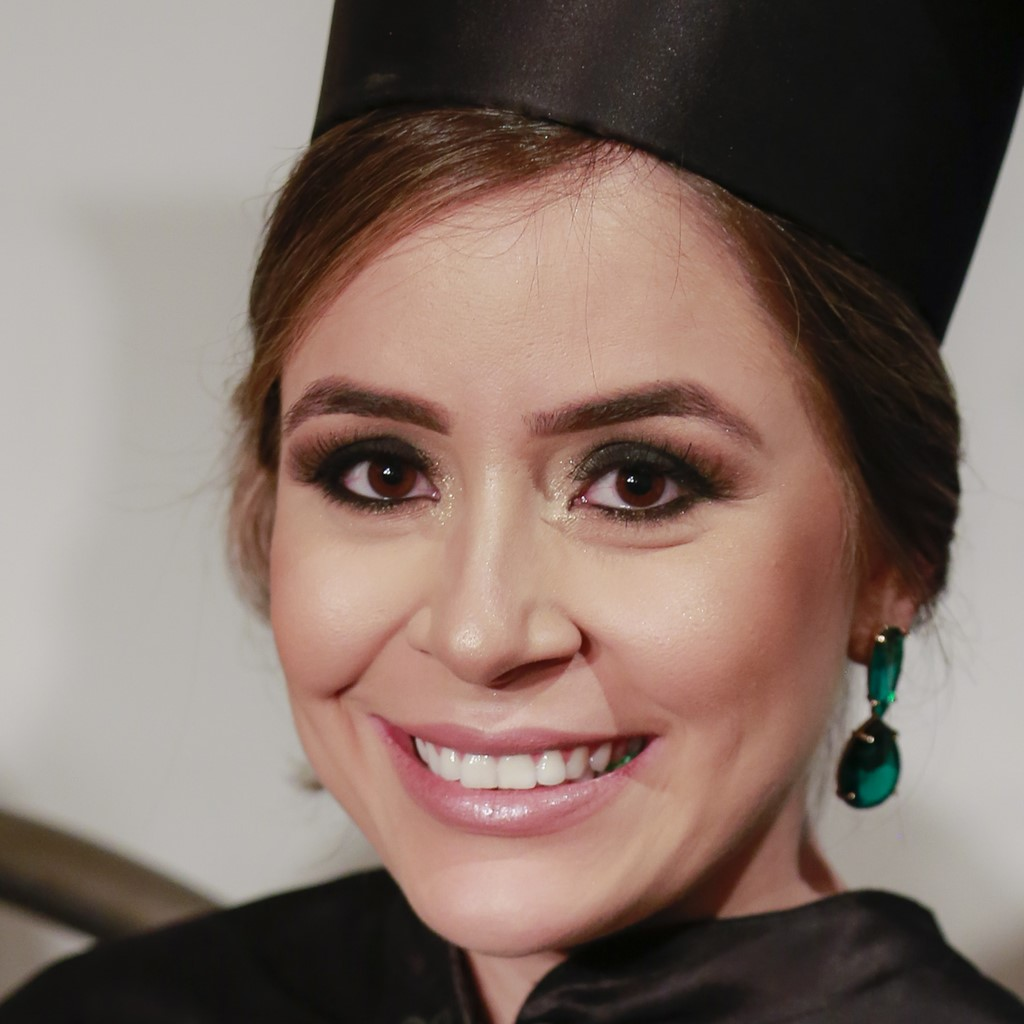sin_mascara: (258, 163, 871, 962)
